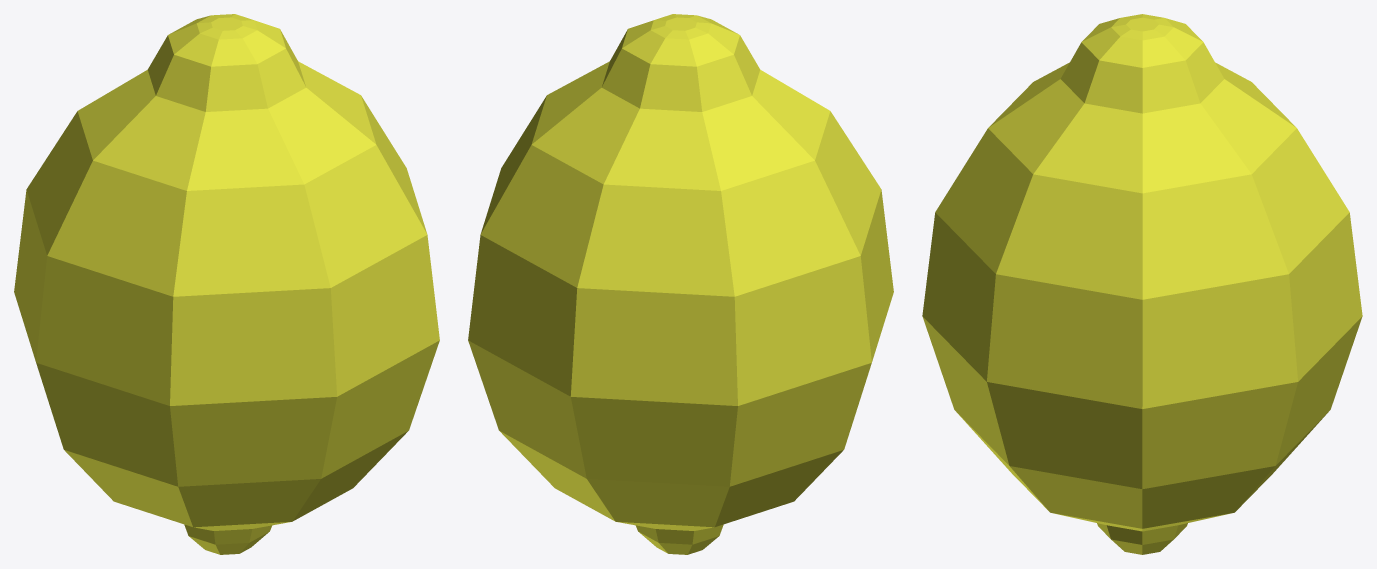
The model's file is lemon.fbx.
The picture shows the model from 3 angles, left to right: view 1: azimuth 30°, elevation 25°; view 2: azimuth 150°, elevation 25°; view 3: azimuth 270°, elevation 25°; orthographic projection.
Parts seen in each view (by area): view 1: Sphere; view 2: Sphere; view 3: Sphere.
Part boxes in pixels (left/top/right/bottom): Sphere: left=14, top=14, right=439, bottom=554; Sphere: left=468, top=14, right=893, bottom=554; Sphere: left=922, top=14, right=1362, bottom=554.
Bounding box in the file's own units: 171 × 224 × 171.
